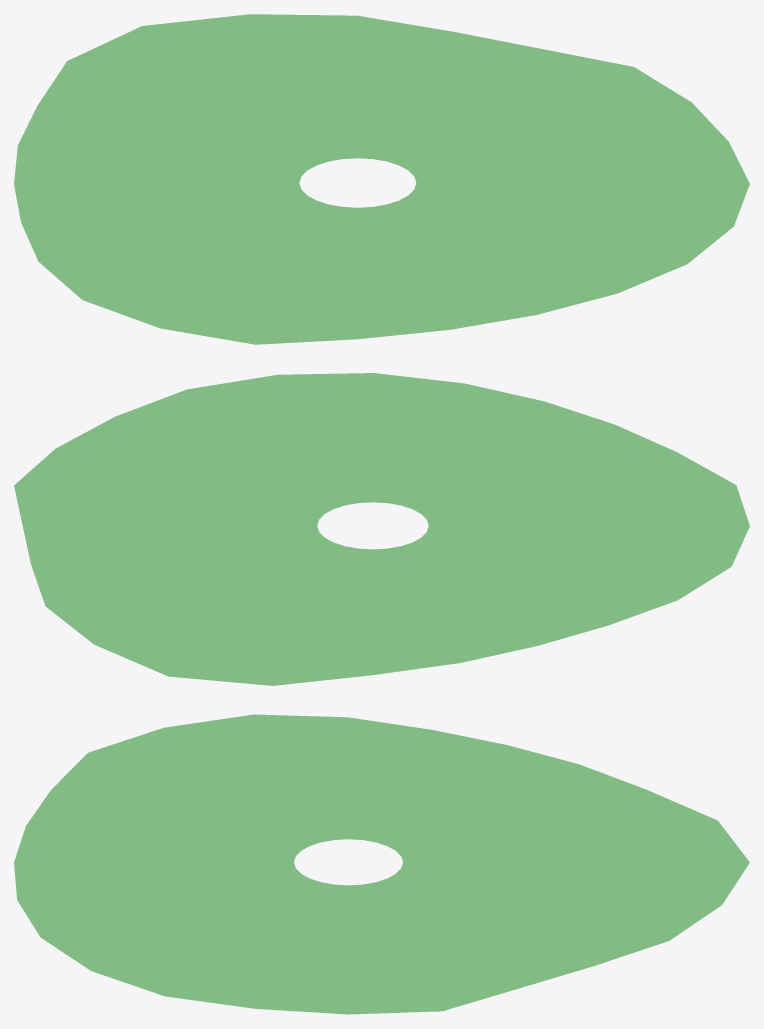
Rendered from colli_146.obj.
3 renders of one model, top to bottom at view 1: azimuth 30°, elevation 25°; view 2: azimuth 150°, elevation 25°; view 3: azimuth 270°, elevation 25°, orthographic. The views are drawn at different scales.
Size of the model in its own units: 135 by 0.098 by 140.
